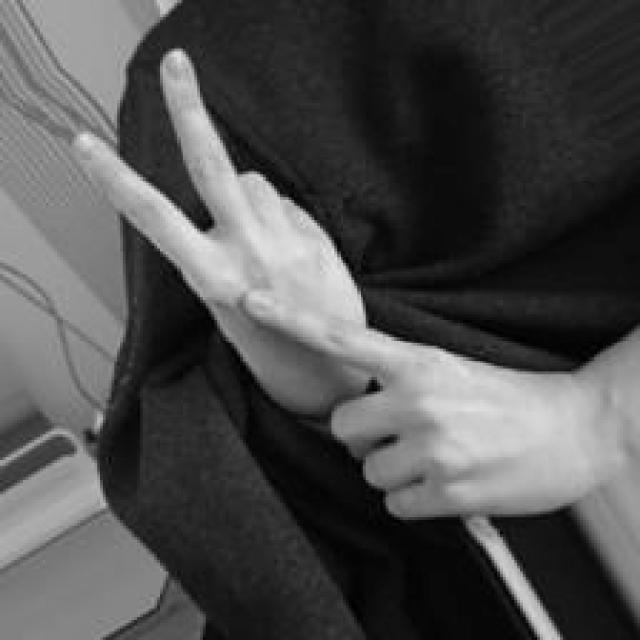Y: (68, 46, 570, 520)
